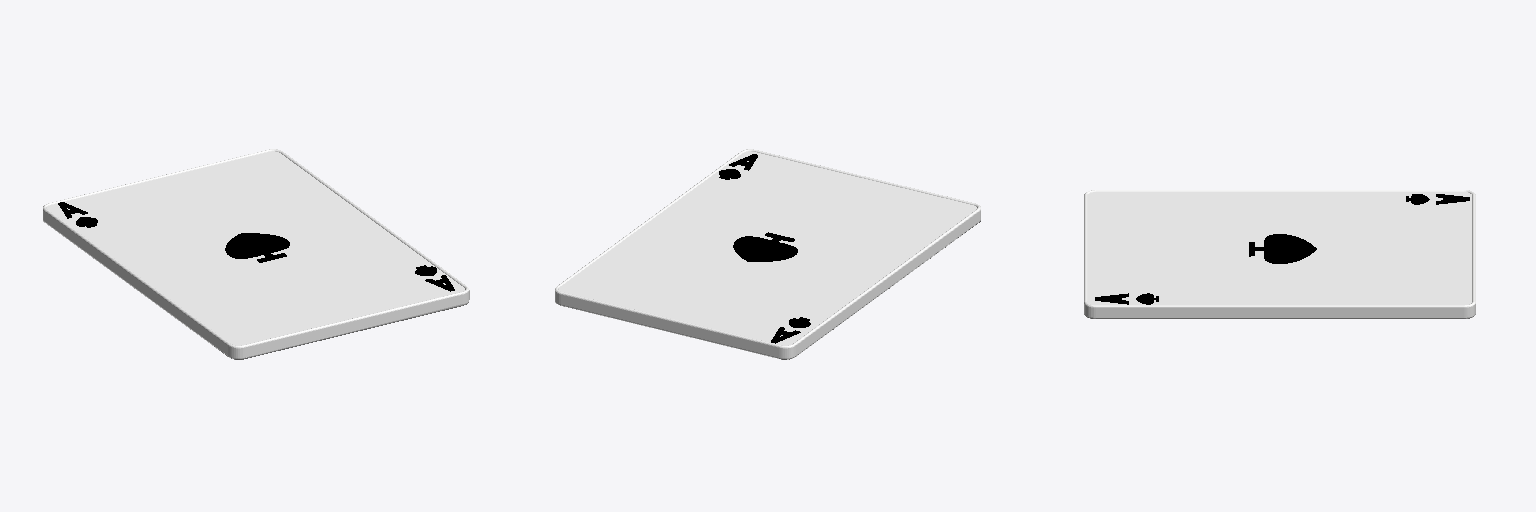
Rendered from spades_1.obj.
The picture shows the model from 3 angles: view 1: azimuth 30°, elevation 25°; view 2: azimuth 150°, elevation 25°; view 3: azimuth 270°, elevation 25°; orthographic projection.
Parts seen in each view (by area): view 1: rect4266.108, rect4266.101, path2985-3-3-5-4-3.004, rect4266.110; view 2: rect4266.108, rect4266.101, path2985-3-3-5-4-3.004; view 3: rect4266.108, rect4266.101, path2985-3-3-5-4-3.004.
Boxes of the visible parts, x1,y1,x2,y2 form: rect4266.108: [47, 151, 464, 345]; rect4266.101: [43, 149, 469, 358]; path2985-3-3-5-4-3.004: [225, 233, 289, 262]; rect4266.110: [43, 221, 468, 359]; rect4266.108: [559, 151, 976, 345]; rect4266.101: [555, 149, 980, 358]; path2985-3-3-5-4-3.004: [733, 232, 797, 261]; rect4266.108: [1088, 192, 1471, 304]; rect4266.101: [1084, 190, 1475, 318]; path2985-3-3-5-4-3.004: [1249, 234, 1316, 263].
Bounding box in the file's own units: 2.88 × 0.2003 × 4.08.